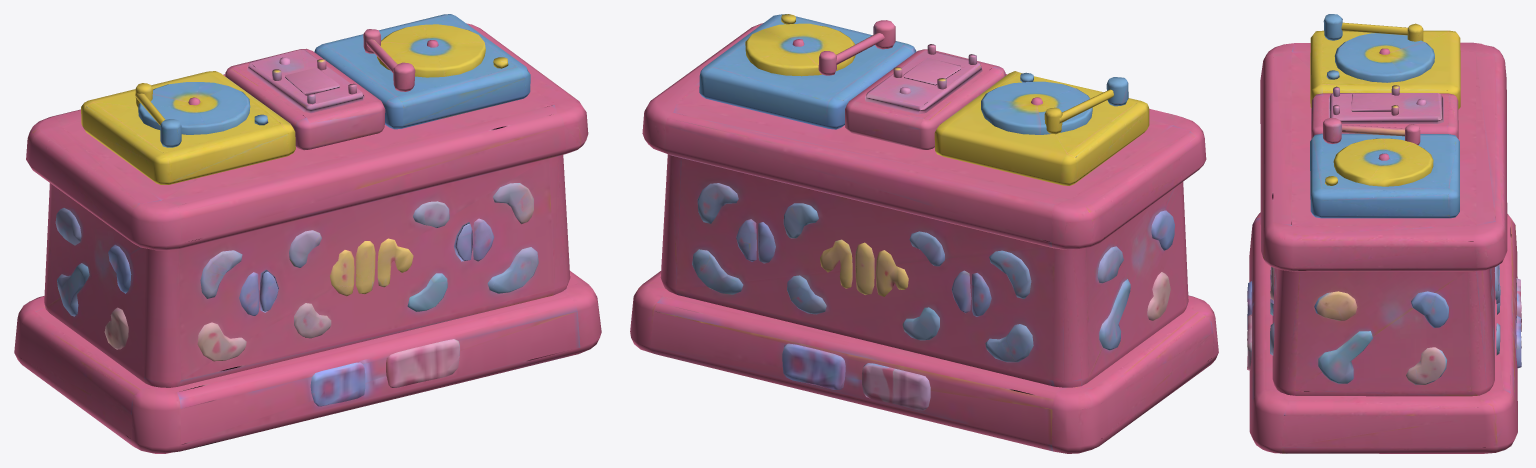
Rendered from club-booth.glb.
3 views of the same model, side by side, from view 1: azimuth 30°, elevation 25°; view 2: azimuth 150°, elevation 25°; view 3: azimuth 270°, elevation 25° (orthographic). The views are drawn at different scales.
Visible parts, largest first — view 1: geometry_0; view 2: geometry_0; view 3: geometry_0.
Boxes of the visible parts, left/top/right/bottom form: geometry_0: left=14, top=14, right=601, bottom=453; geometry_0: left=630, top=14, right=1218, bottom=453; geometry_0: left=1247, top=14, right=1521, bottom=453.
Size of the model in its own units: 1 by 0.6049 by 0.5661.
Materials: 1 (1 with a texture image).
